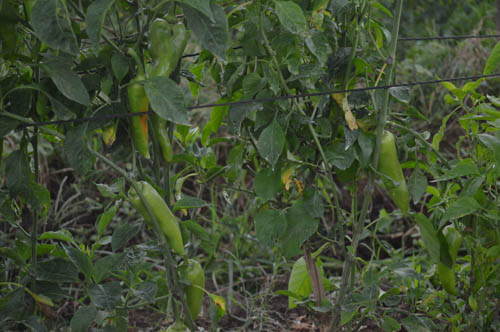ChiliPepper: (135, 185, 183, 253), (377, 132, 408, 207), (157, 27, 190, 83), (439, 228, 464, 295), (127, 80, 148, 157), (181, 262, 206, 319), (152, 104, 172, 162), (149, 22, 167, 50)
